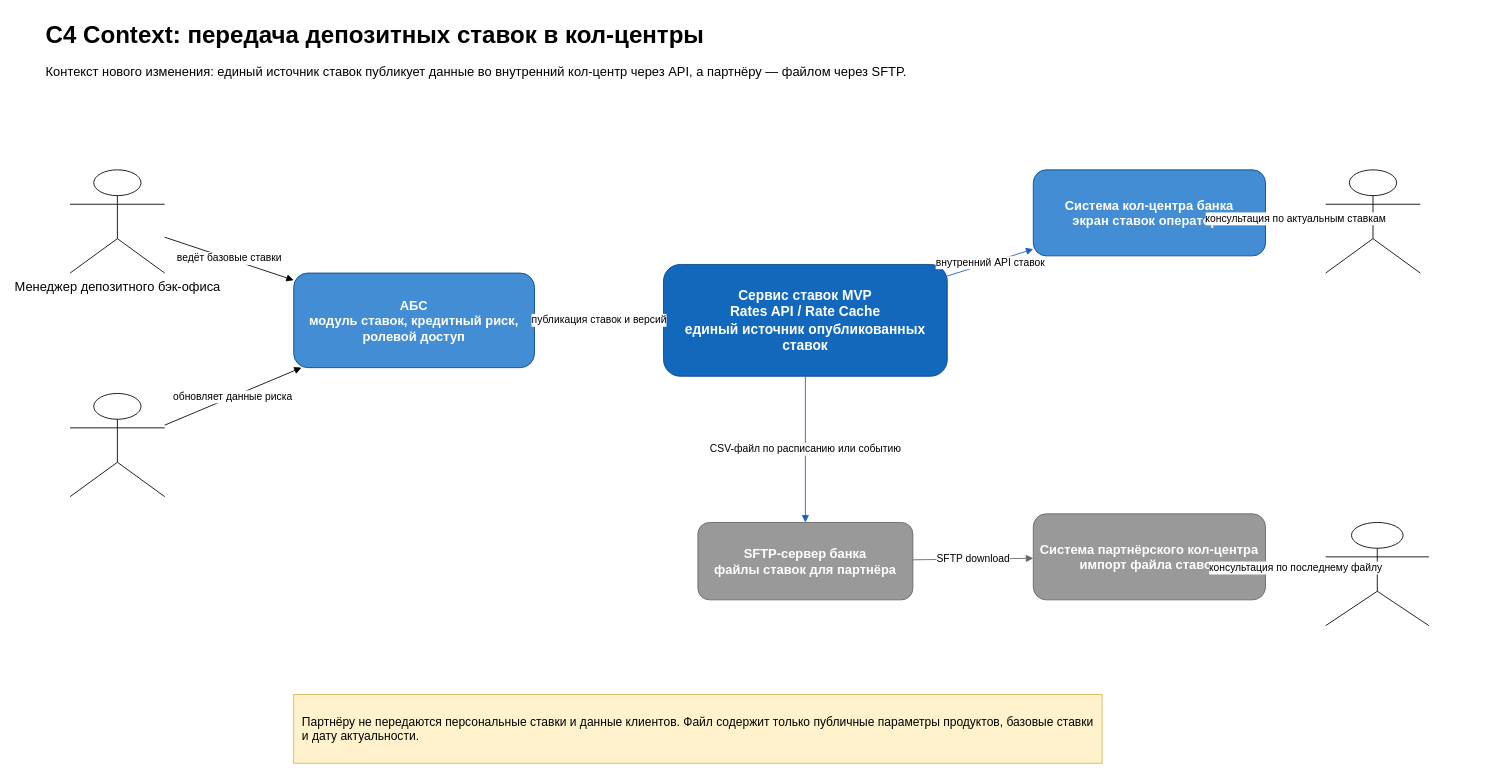
This 1498x778 diagram has some shape labels left out. Each missing label, with the box of its shape:
Менеджер кредитного бэк-офиса: (69, 393, 165, 497)
Оператор кол-центра банка: (1325, 169, 1420, 273)
Оператор партнёрского кол-центра: (1325, 522, 1429, 626)
